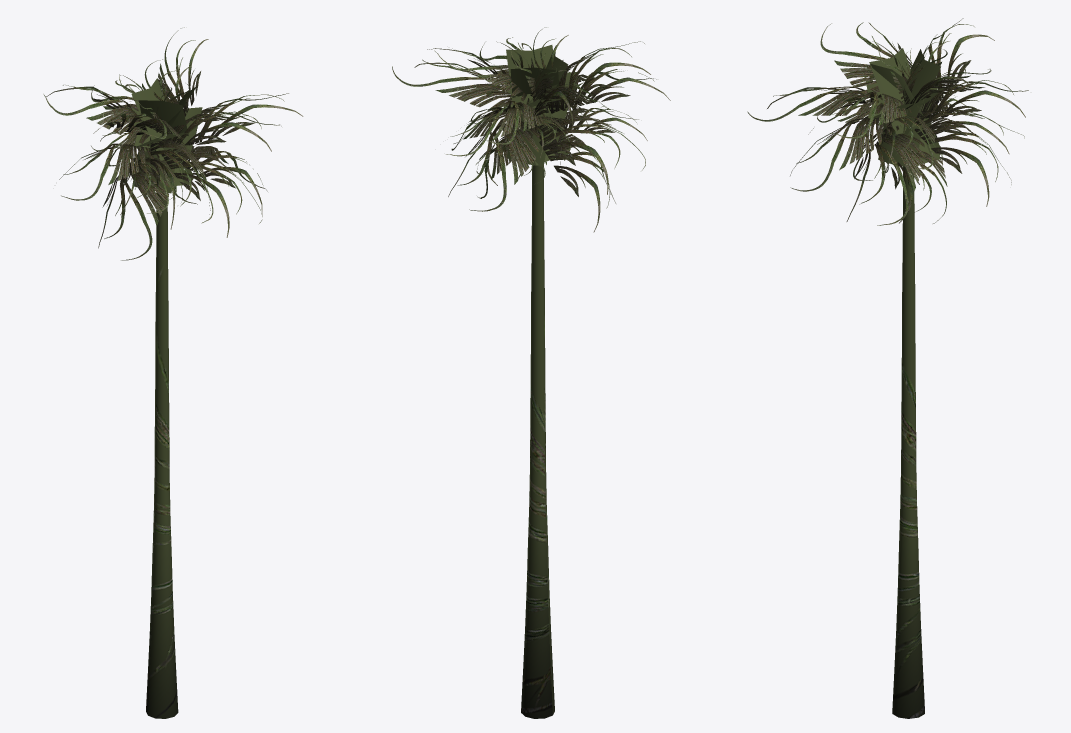
Rendered from palm_tree.fbx.
The picture shows the model from 3 angles, left to right: view 1: azimuth 30°, elevation 25°; view 2: azimuth 150°, elevation 25°; view 3: azimuth 270°, elevation 25°; orthographic projection. The views are drawn at different scales.
Visible parts, largest first — view 1: palm_tree; view 2: palm_tree; view 3: palm_tree.
Part boxes in pixels (bbox=[...]): palm_tree: bbox=[43, 27, 303, 718]; palm_tree: bbox=[392, 27, 670, 718]; palm_tree: bbox=[747, 18, 1028, 718].
Size of the model in its own units: 198 by 440 by 198.
